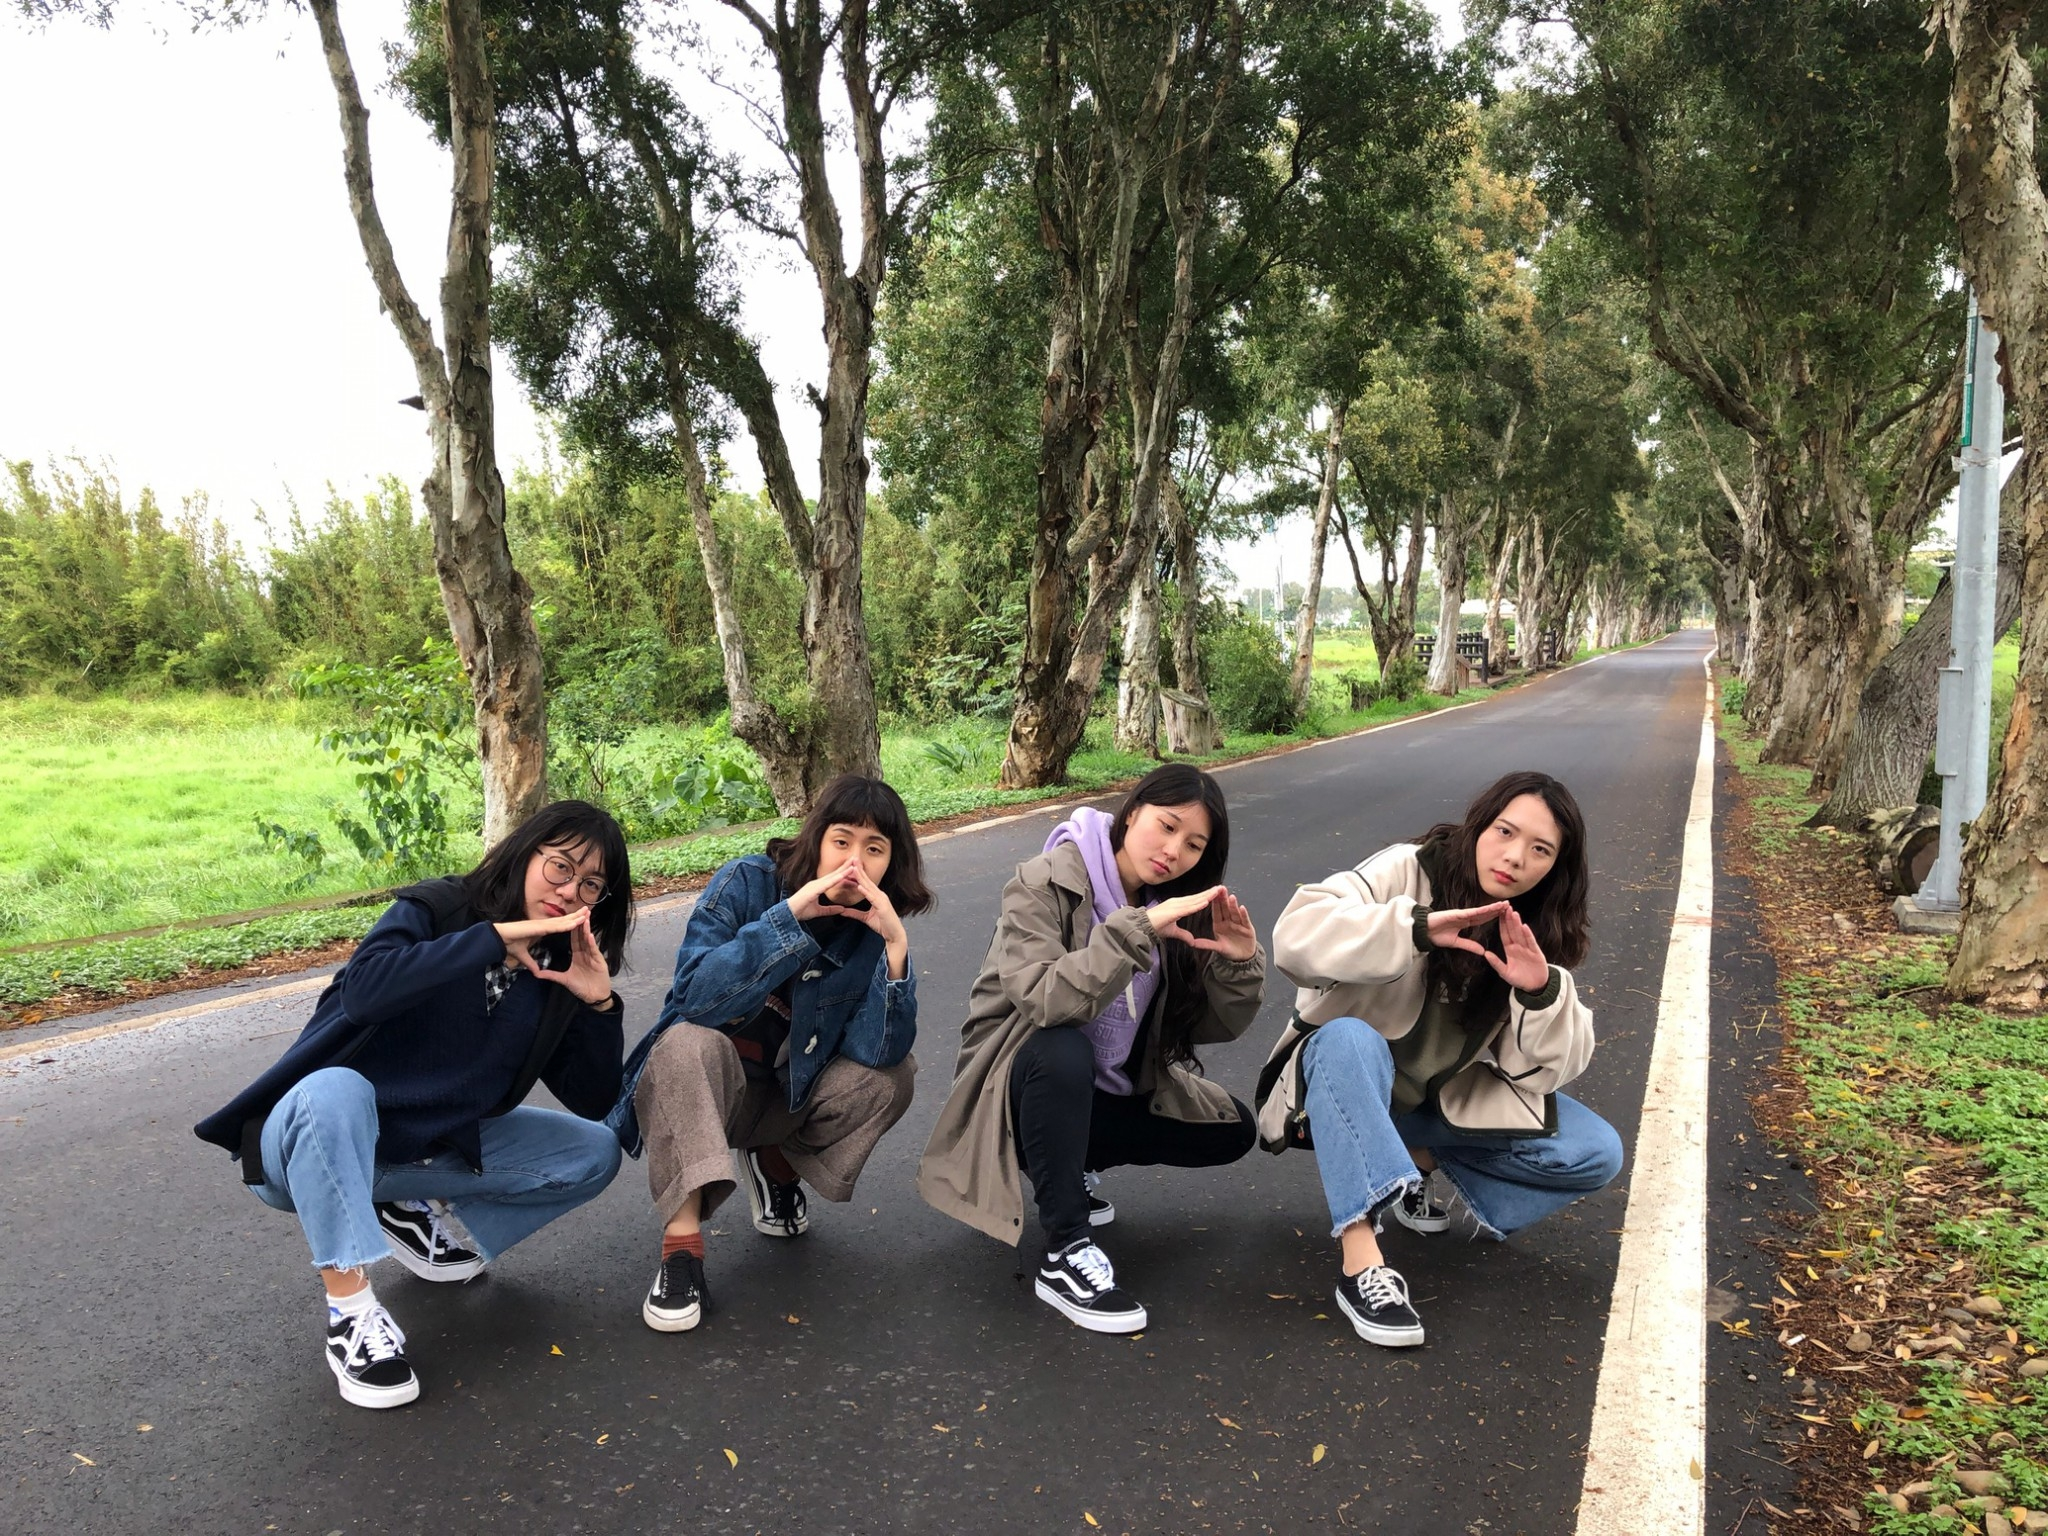people: (1316, 781, 1593, 1337), (331, 816, 599, 1328), (654, 781, 863, 1302), (1034, 799, 1196, 1337)
